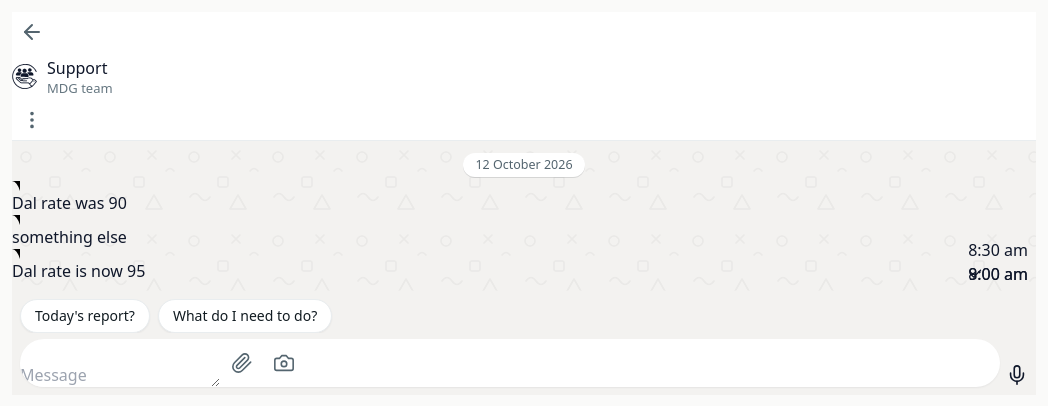
Test case: ChatPage — searching inside the chat › asks the server for the typed words (trimmed), once typing has paused
This screenshot has width=1048, height=406.
Check: the text "Dal rate is now 95" is shown, box [12,260,145,282]
Click the button named "More options": {"x": 32, "y": 120} [12,100,52,140]
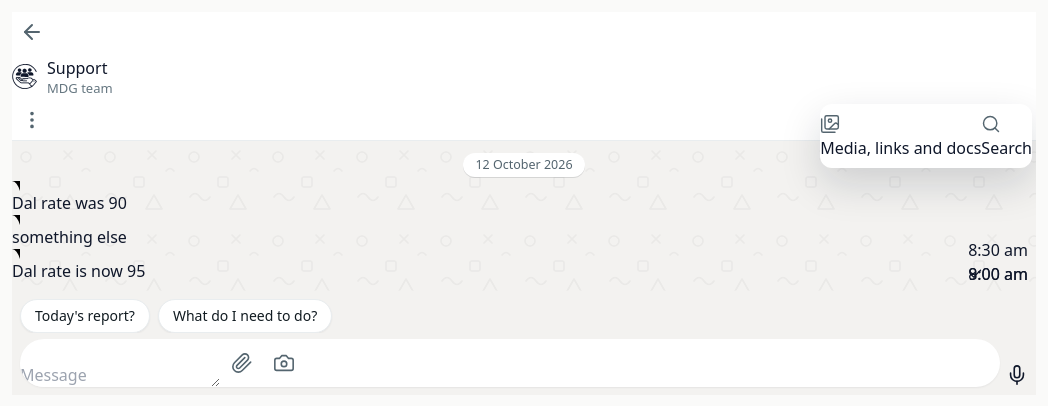
Click the menu item "Search": {"x": 1007, "y": 136} [981,112,1032,160]
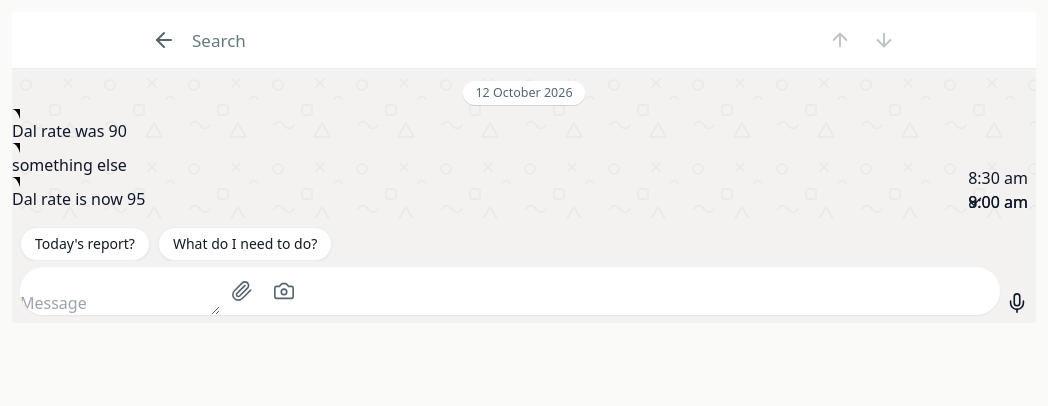
In the search field: {"x": 502, "y": 40} [188,20,816,60], type "  ra"
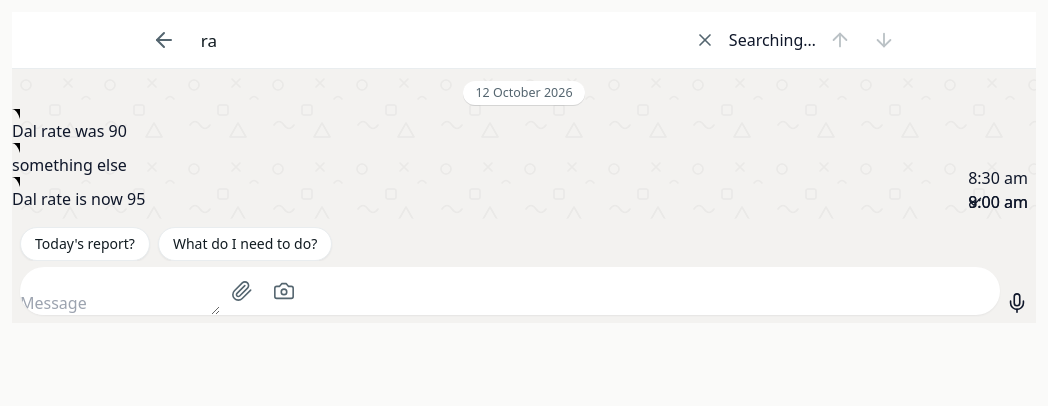
Replace the text in the search field with "  rate  ": {"x": 434, "y": 40} [188,20,681,60]
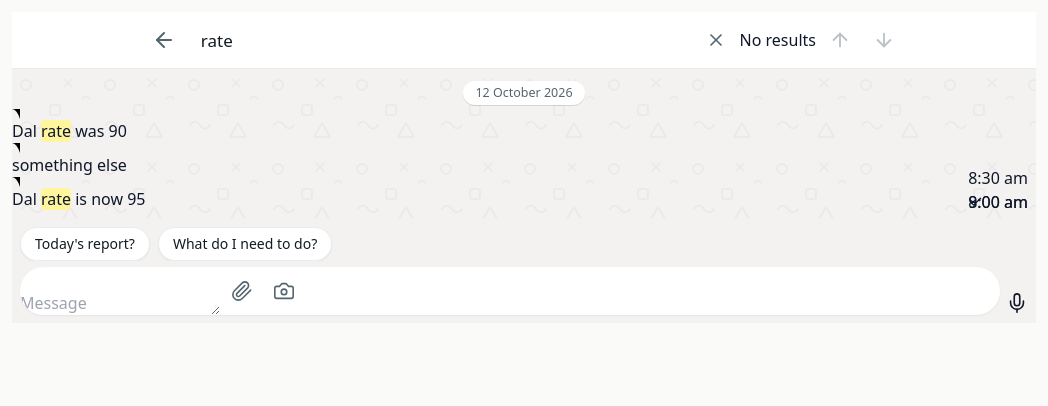
Check: the text "No results" is shown, box [740,28,816,52]
